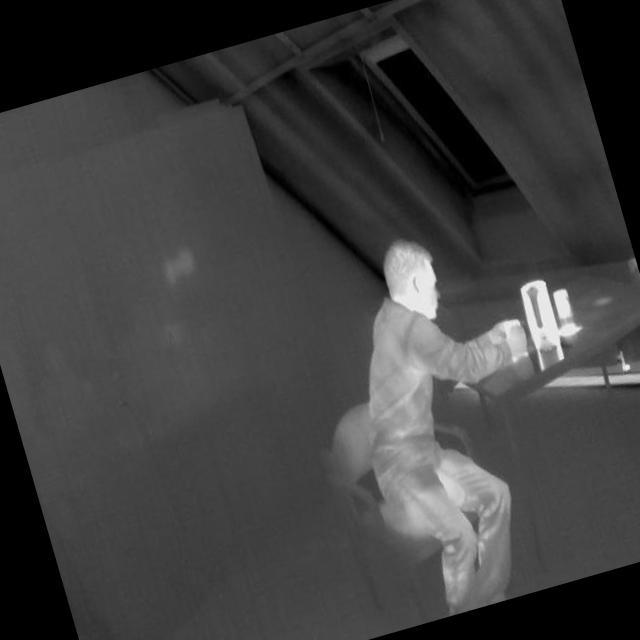person: (280, 204, 598, 634)
